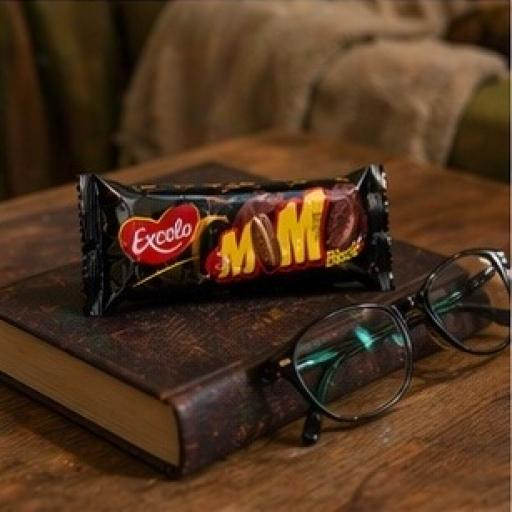MOMO: (74, 172, 442, 375)
